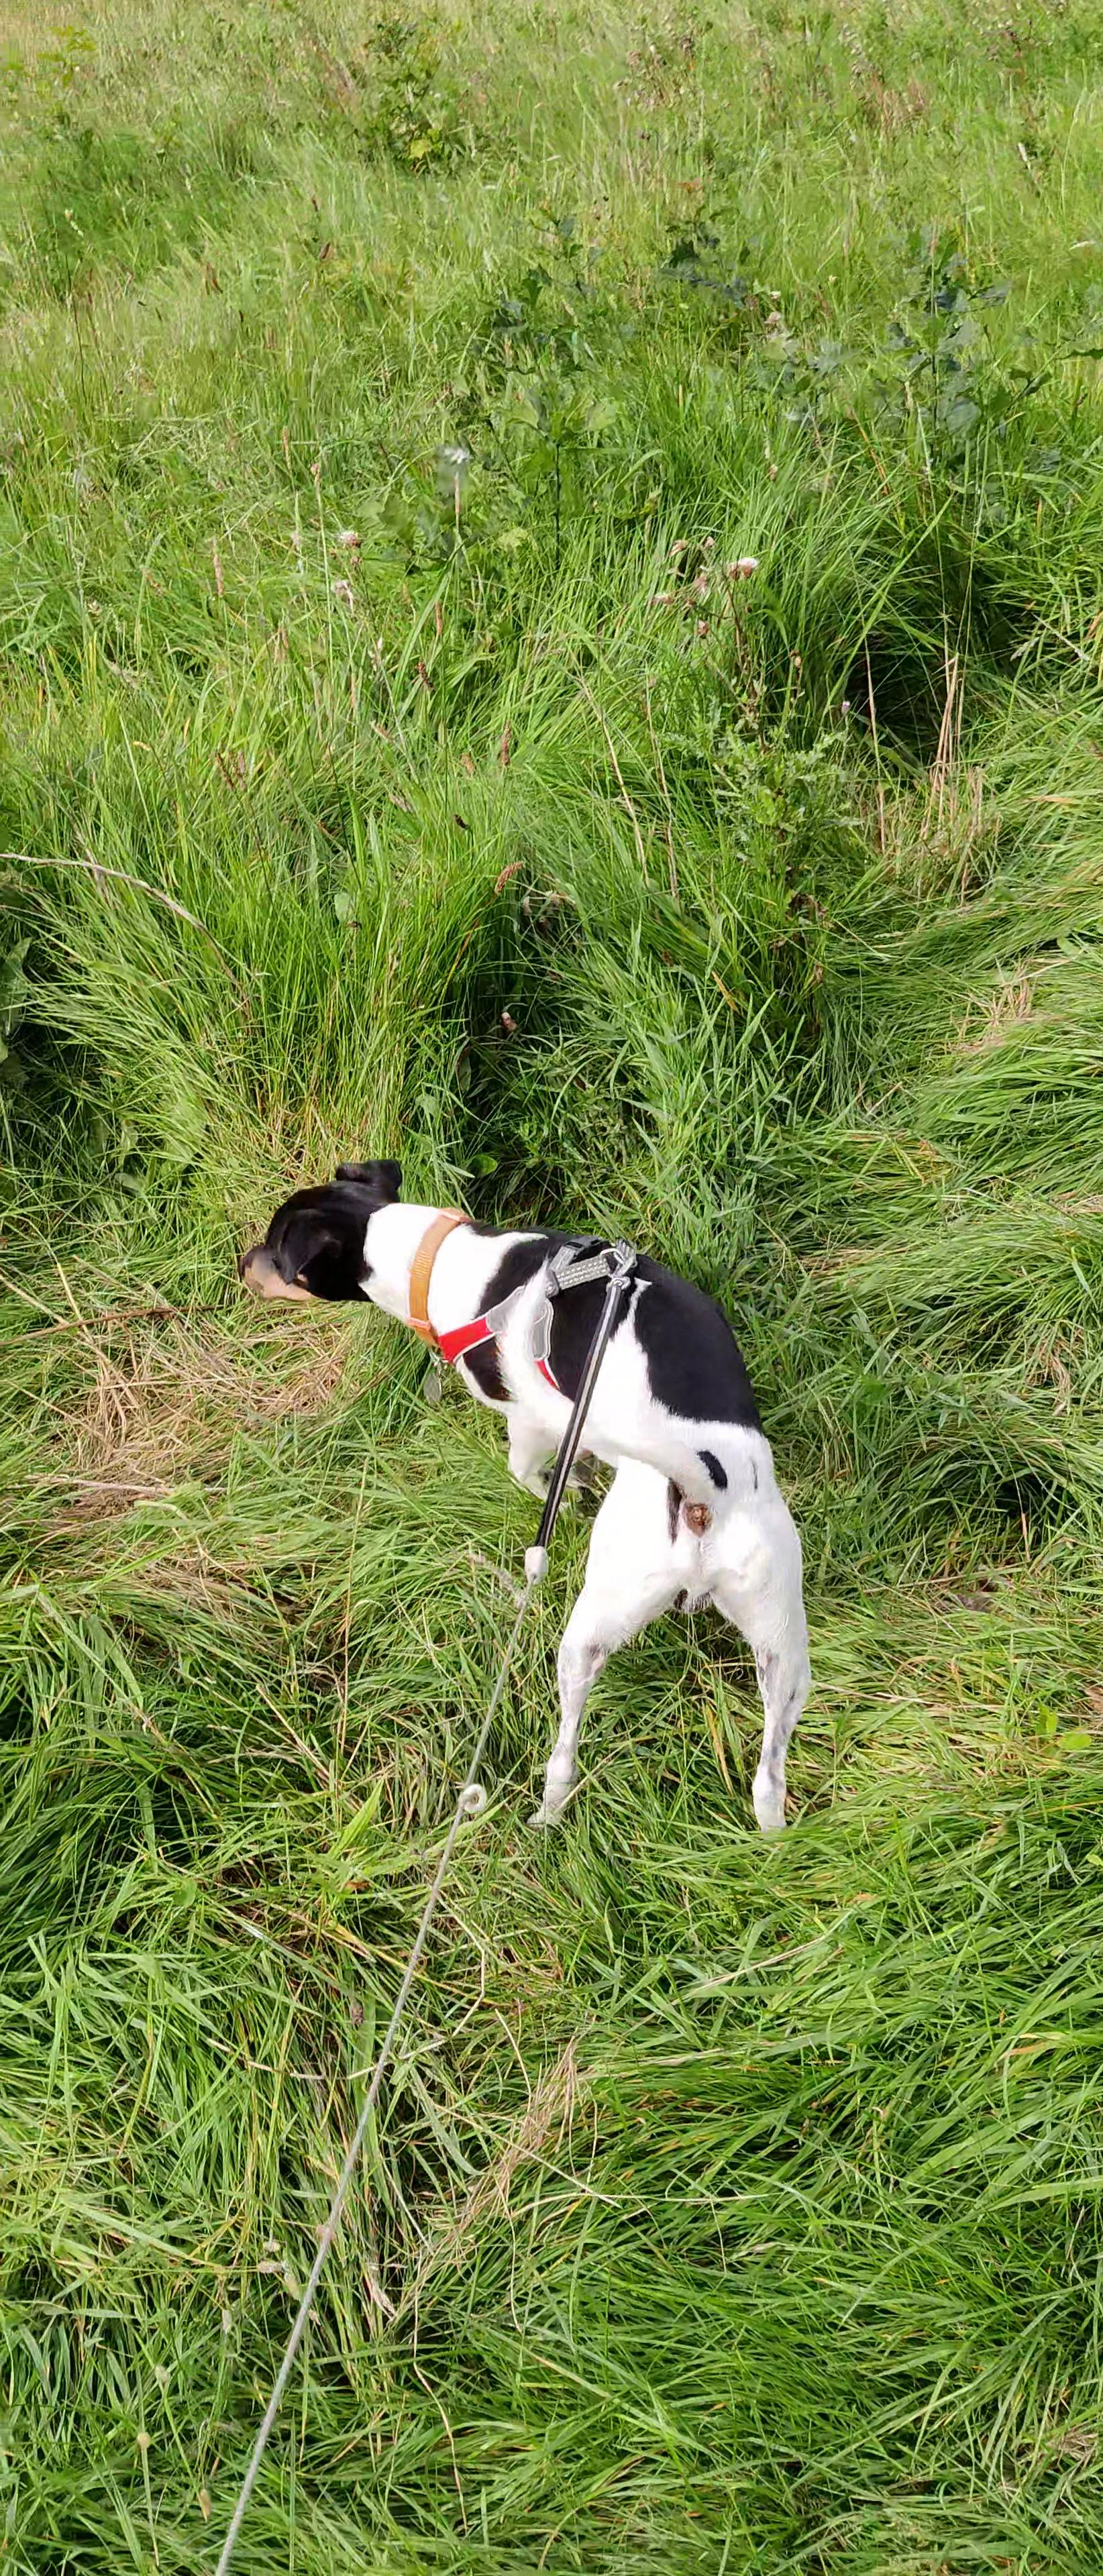Dog: (230, 1153, 822, 1840)
